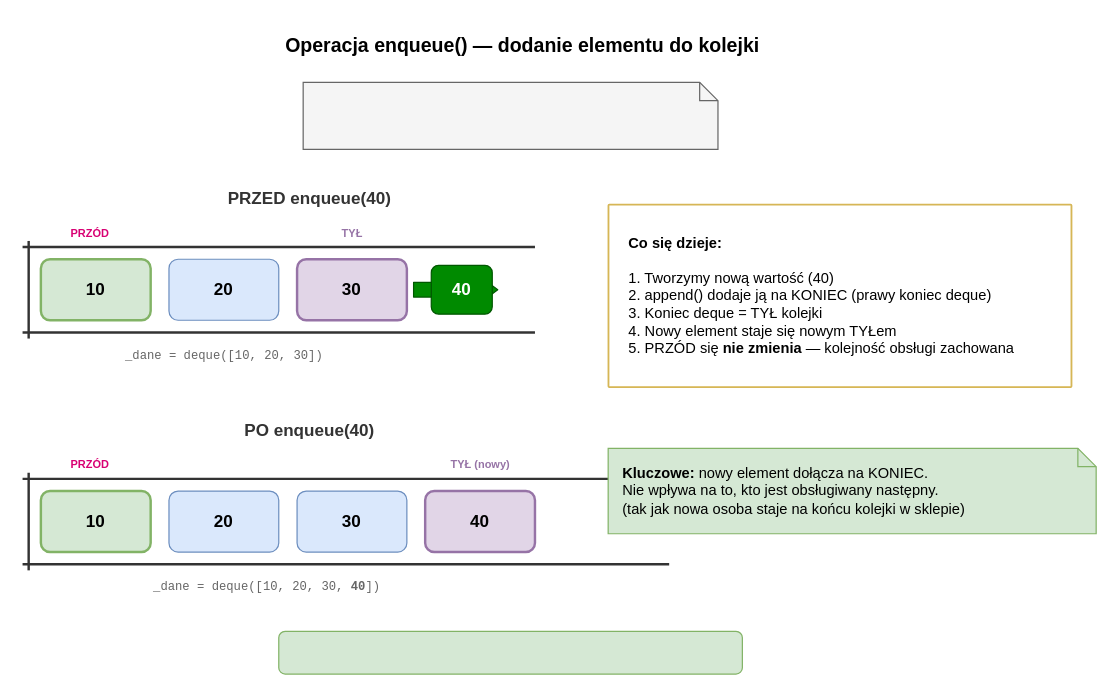
Image size: 1118x695. Some labels were removed from this diagram. The shapes that lost their labels are listed below. From the top down, each one's box as (x1, y1, x2, y2) in pixels, then its label:
(302, 81, 718, 149): def enqueue(self, wartosc): self._dane.append(wartosc)
(278, 630, 742, 674): Złożoność: O(1) — append() na deque to jedna operacja
